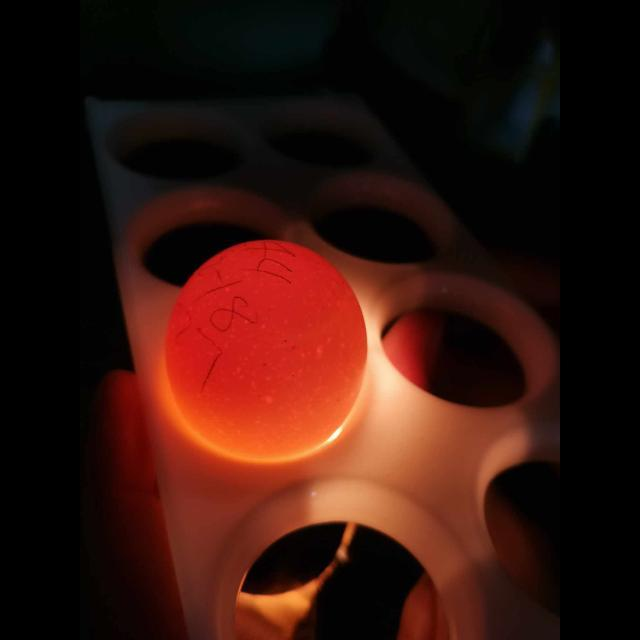Infertile: (166, 240, 368, 456)
